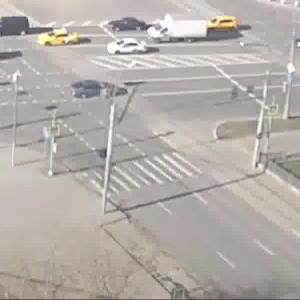car: (149, 16, 206, 52), (74, 80, 115, 105), (110, 13, 149, 37), (38, 29, 80, 50), (208, 12, 239, 37), (1, 15, 36, 36), (110, 40, 147, 57)
